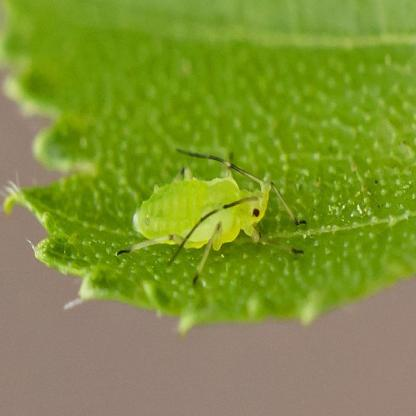aphid: (120, 139, 296, 271)
